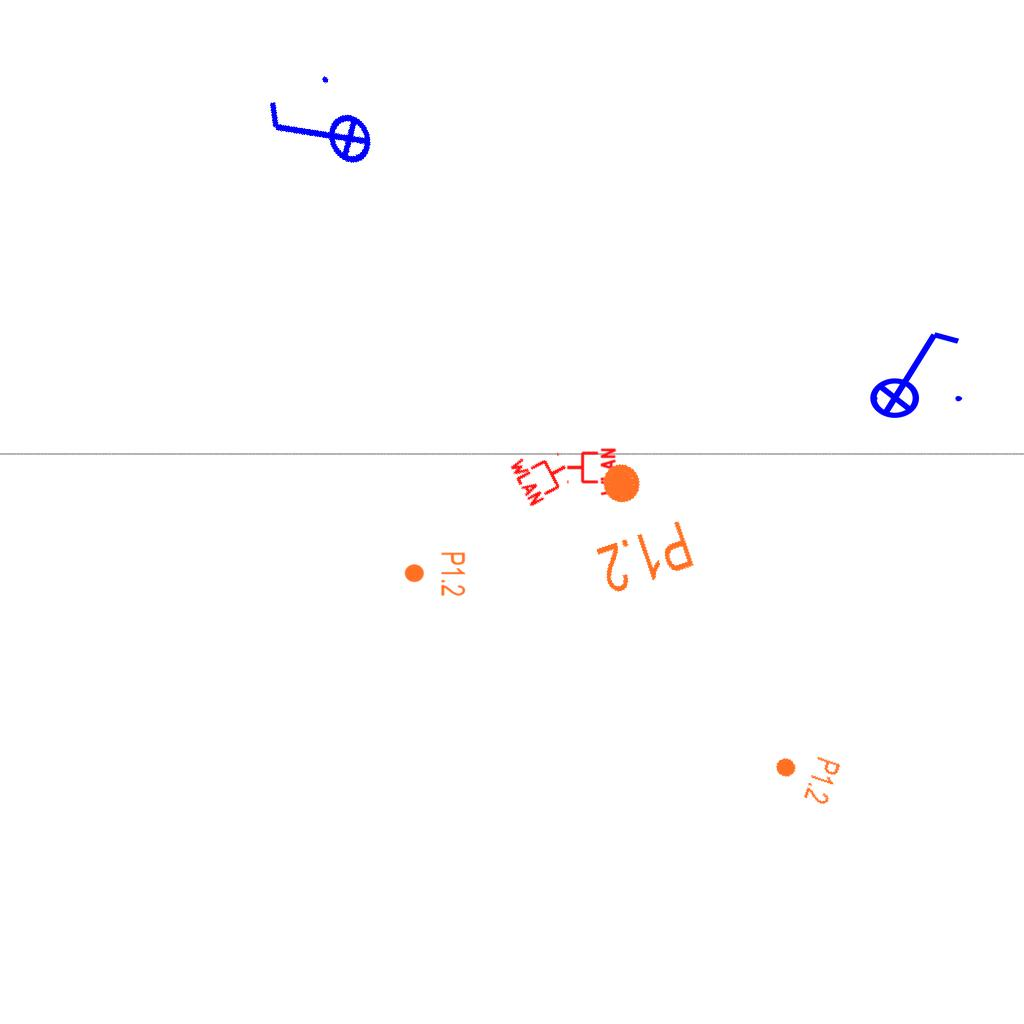Ausschalter_beleuchtet: (252, 62, 386, 204), (856, 324, 968, 420)
Downlight_LED_Einbauleuchten_Flur: (568, 447, 699, 599), (767, 742, 843, 808), (403, 551, 467, 597)
WLAN: (506, 438, 578, 510), (565, 446, 617, 498)
